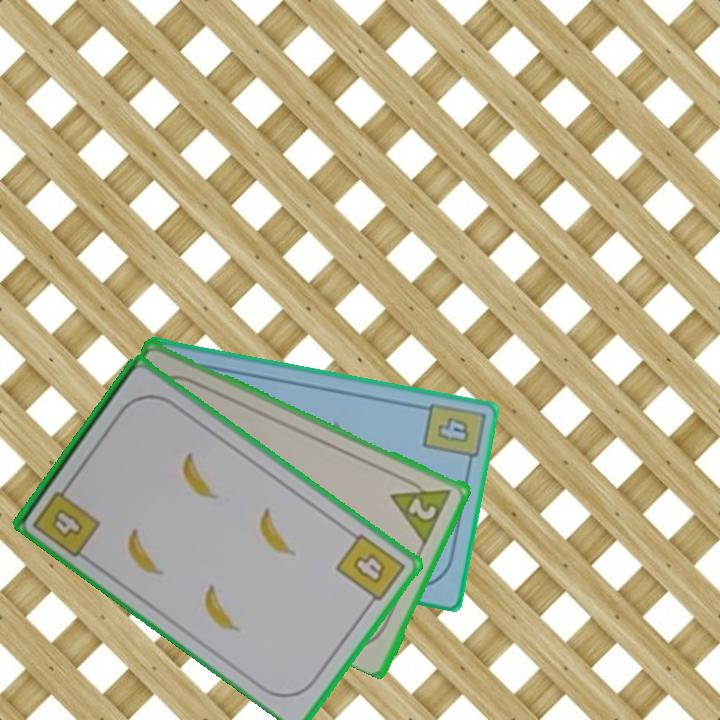2p: (387, 471, 455, 545)
4b: (332, 529, 408, 611), (29, 477, 103, 560), (419, 398, 486, 471)
